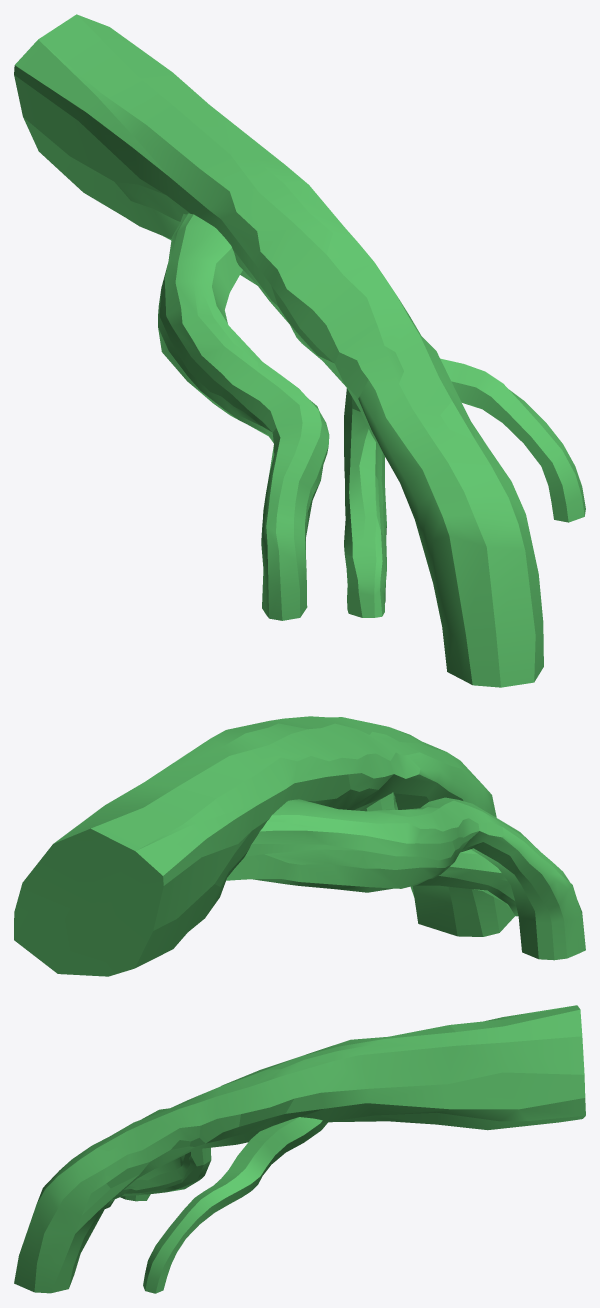
Rendered from jungle_trunk_ground_C.fbx.
The picture shows the model from 3 angles, top to bottom: view 1: azimuth 30°, elevation 25°; view 2: azimuth 150°, elevation 25°; view 3: azimuth 270°, elevation 25°; orthographic projection. The views are drawn at different scales.
Visible parts, largest first — view 1: jungle_trunk_ground_C, jungle_trunk_ground_C_branch_A, jungle_trunk_ground_C_branch_B, jungle_trunk_ground_C_branch_C; view 2: jungle_trunk_ground_C, jungle_trunk_ground_C_branch_A, jungle_trunk_ground_C_branch_B; view 3: jungle_trunk_ground_C, jungle_trunk_ground_C_branch_C, jungle_trunk_ground_C_branch_B.
Boxes of the visible parts, box(x1,y1,x2,y2) form: jungle_trunk_ground_C: box(14, 14, 543, 687); jungle_trunk_ground_C_branch_A: box(158, 213, 329, 620); jungle_trunk_ground_C_branch_B: box(344, 388, 386, 617); jungle_trunk_ground_C_branch_C: box(254, 281, 585, 522); jungle_trunk_ground_C: box(14, 716, 514, 976); jungle_trunk_ground_C_branch_A: box(226, 797, 585, 960); jungle_trunk_ground_C_branch_B: box(360, 792, 518, 916); jungle_trunk_ground_C: box(14, 1005, 585, 1293); jungle_trunk_ground_C_branch_C: box(143, 1117, 327, 1293); jungle_trunk_ground_C_branch_B: box(105, 1147, 211, 1208).
Bounding box in the file's own units: 349 × 370 × 739.
